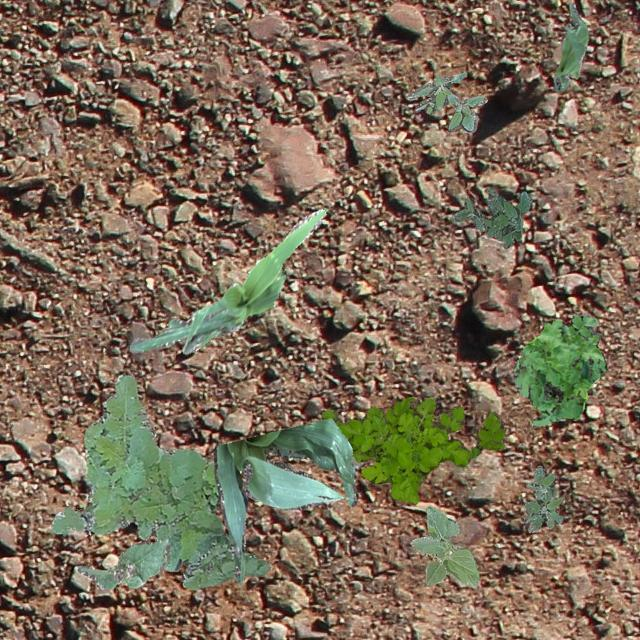crop: (128, 208, 324, 354), (214, 418, 356, 582), (409, 506, 478, 586), (76, 538, 168, 588), (552, 2, 588, 90)
weed: (51, 373, 268, 590), (320, 396, 502, 502), (512, 312, 606, 426), (452, 185, 532, 248), (406, 70, 486, 132), (522, 464, 562, 532)
